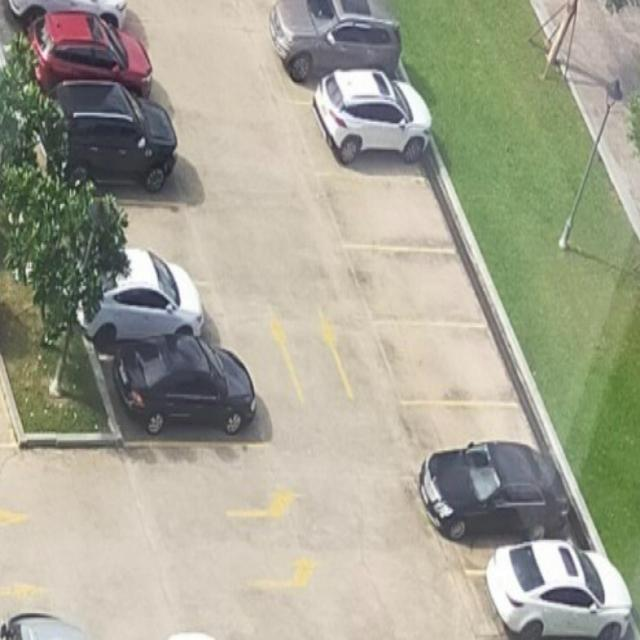car: (486, 539, 634, 639), (419, 441, 569, 539), (114, 335, 256, 434), (52, 81, 176, 192), (72, 248, 205, 351), (312, 69, 431, 163), (270, 0, 401, 82), (29, 10, 152, 95)
freeslot: (361, 313, 524, 413), (329, 237, 496, 333), (312, 168, 463, 260)
